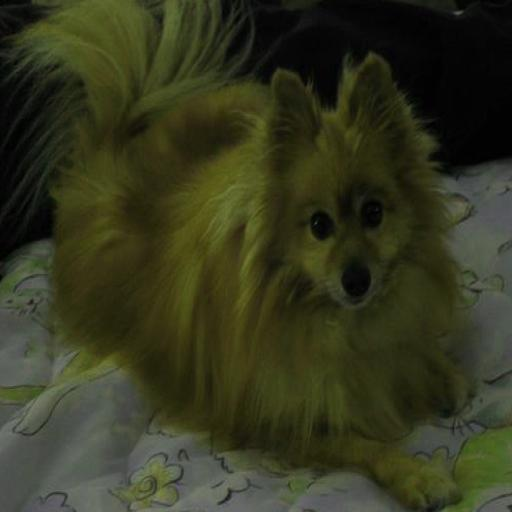dog_face: (261, 66, 421, 313)
